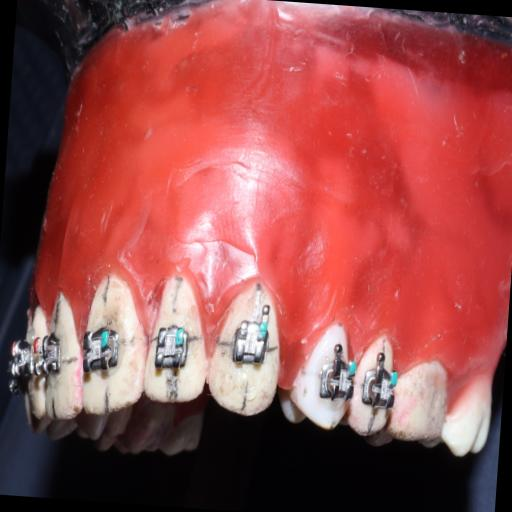incorrect_brace: (141, 276, 215, 412), (230, 310, 270, 370), (152, 320, 192, 372)
